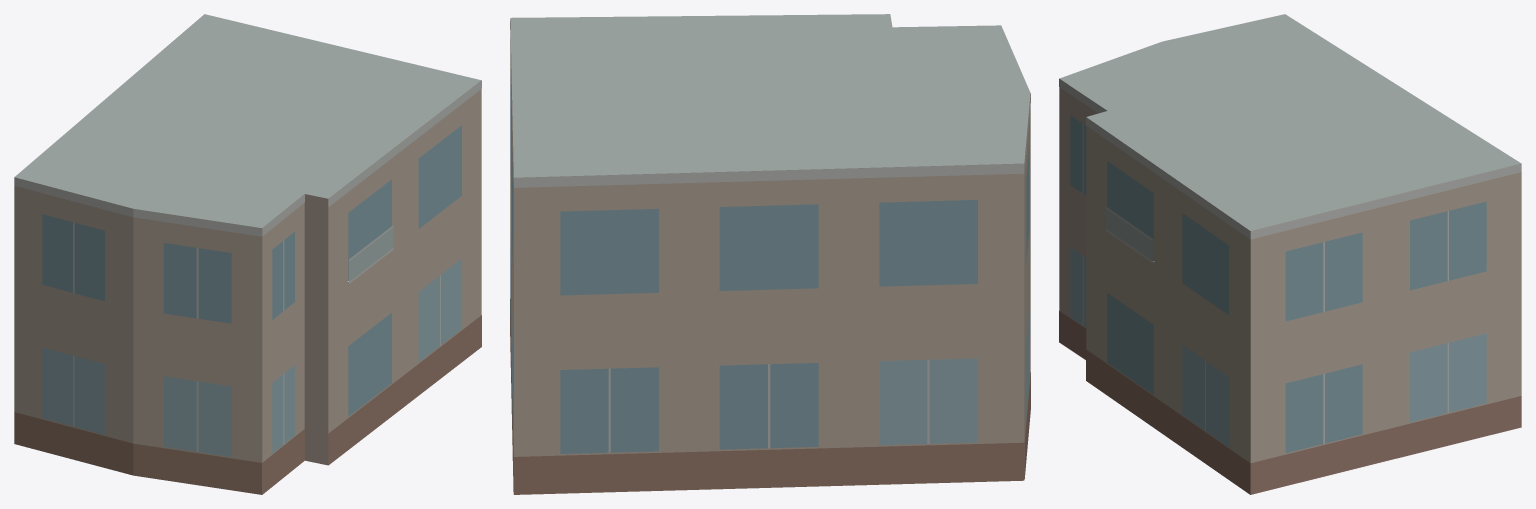
File: survey-upis-32493711.glb
3 views of the same model, side by side, from view 1: azimuth 30°, elevation 25°; view 2: azimuth 150°, elevation 25°; view 3: azimuth 270°, elevation 25° (orthographic). The views are drawn at different scales.
Parts seen in each view (by area): view 1: survey-upis-32493711.tmp; view 2: survey-upis-32493711.tmp; view 3: survey-upis-32493711.tmp.
Boxes of the visible parts, x1=… form: survey-upis-32493711.tmp: x1=14, y1=14, x2=481, y2=494; survey-upis-32493711.tmp: x1=510, y1=14, x2=1030, y2=494; survey-upis-32493711.tmp: x1=1059, y1=14, x2=1521, y2=494.
Bounding box in the file's own units: 13.42 × 7.6 × 12.09.
